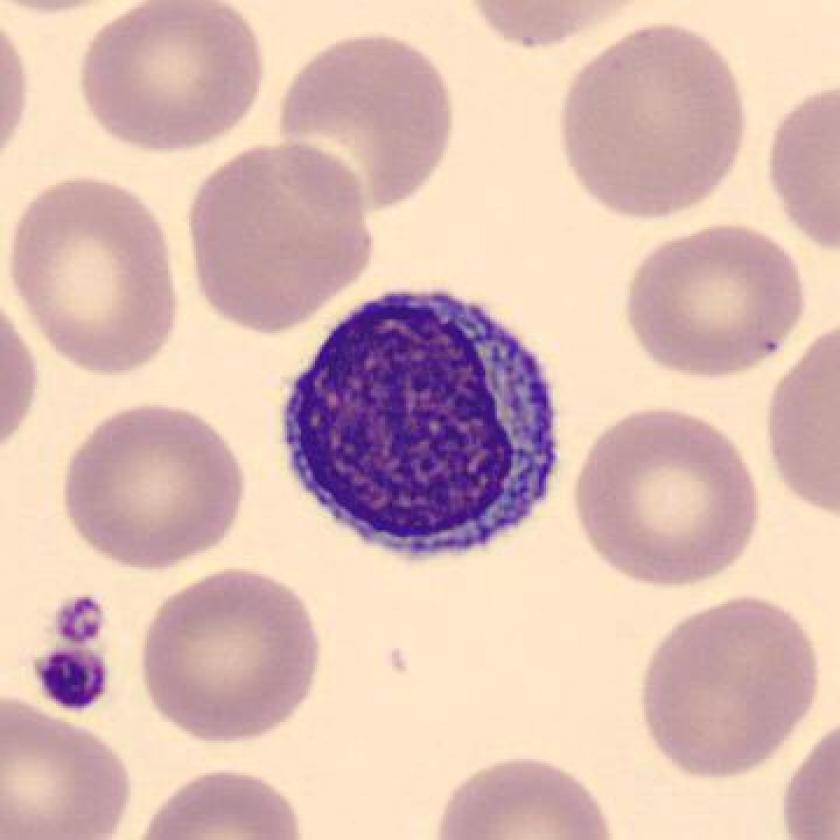lymphocyte: (267, 272, 584, 584)
platelets: (33, 640, 115, 715), (50, 590, 109, 649)
